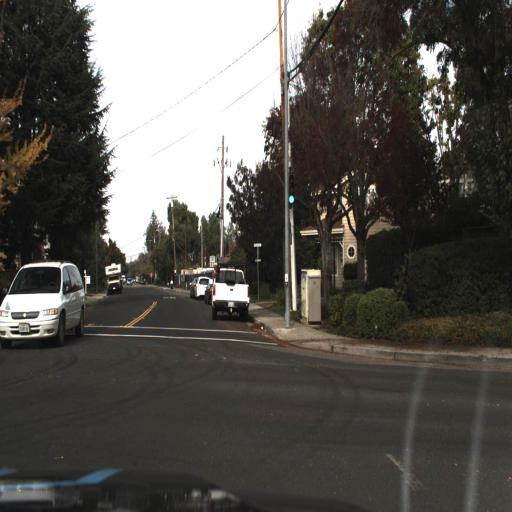car: (0, 256, 92, 344), (210, 266, 252, 311), (190, 268, 206, 304)
trafficLight-Green: (285, 171, 298, 208), (287, 172, 297, 207)
truck: (103, 253, 127, 296)
